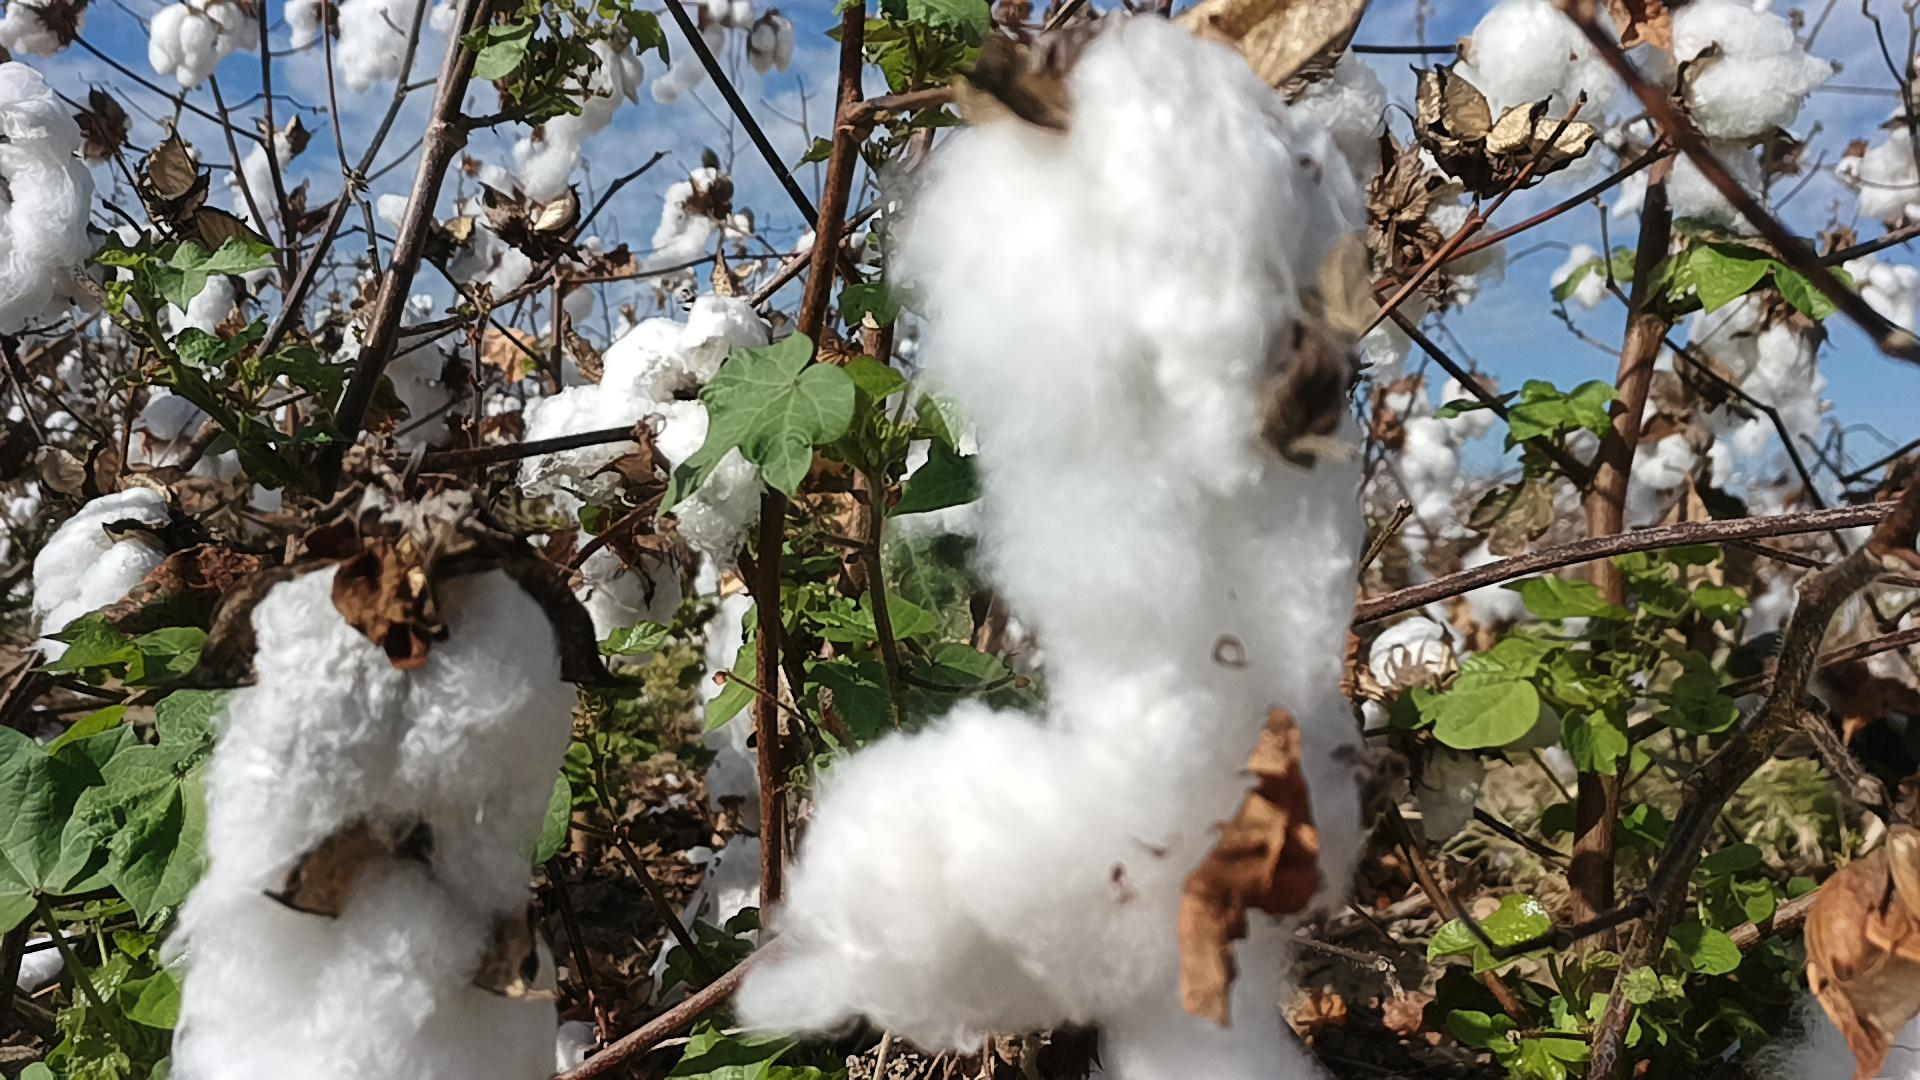cotton_ready: (894, 13, 1356, 920), (162, 549, 583, 1080), (737, 700, 1325, 1080), (522, 287, 767, 539), (694, 535, 802, 951), (1425, 0, 1638, 199), (32, 480, 198, 683), (1345, 621, 1486, 858), (0, 57, 100, 335), (1626, 351, 1768, 533), (1673, 1, 1838, 141), (1684, 293, 1828, 447), (1788, 957, 1920, 1080), (125, 390, 255, 513), (527, 55, 638, 195), (574, 537, 680, 675), (380, 319, 483, 446), (146, 0, 243, 94), (654, 166, 723, 273), (335, 0, 411, 91)
